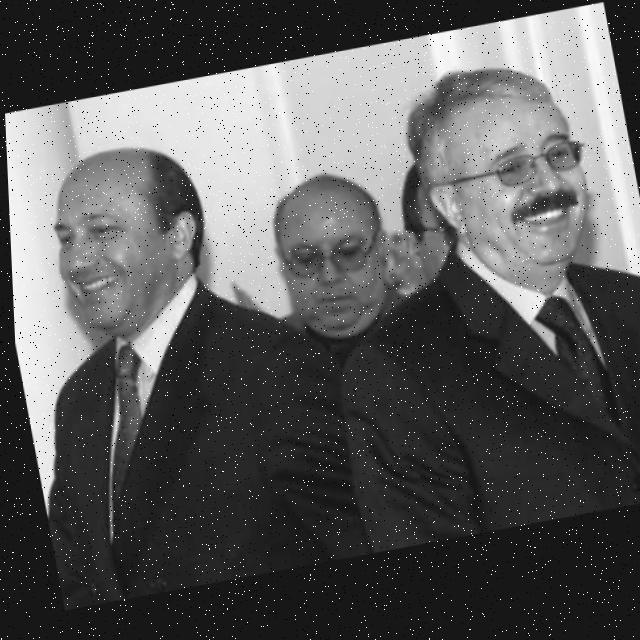face: (29, 119, 231, 346), (416, 59, 602, 286), (256, 160, 407, 352)
